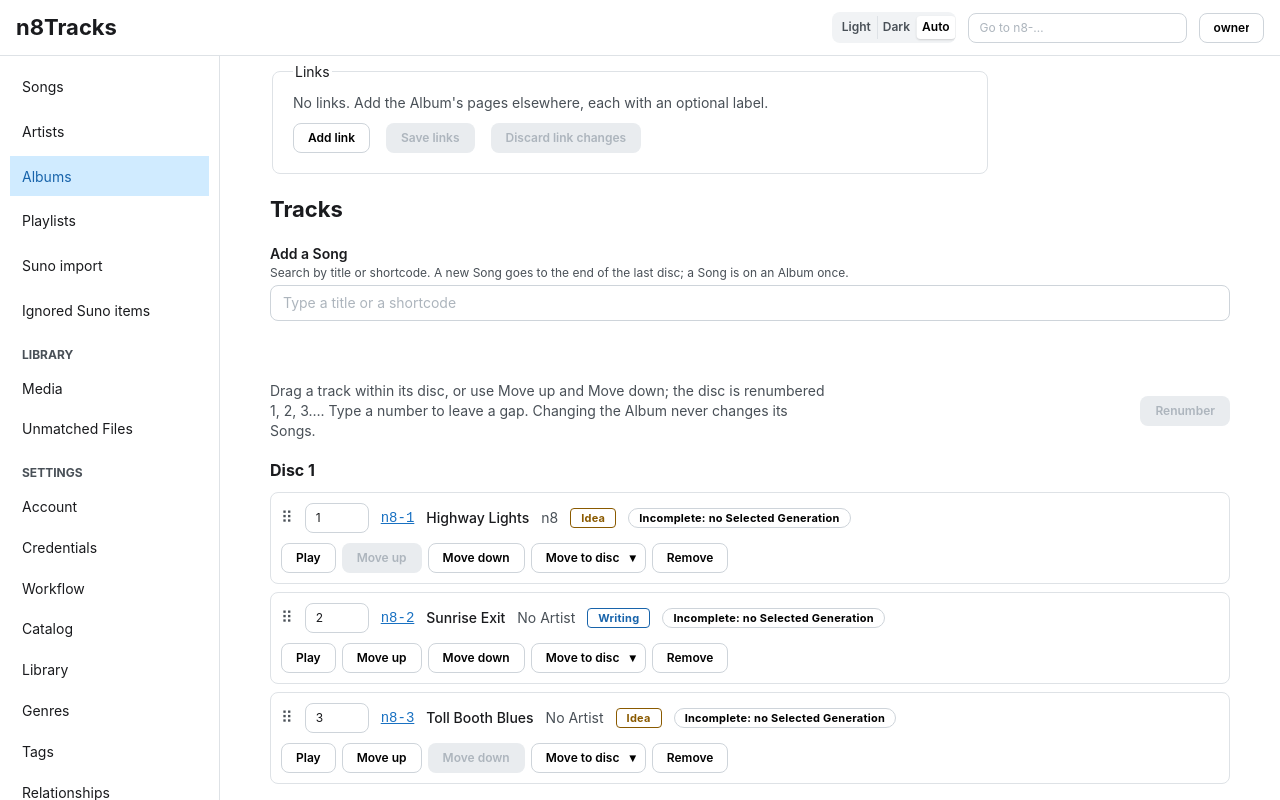
Test: an Album's tracks › moves a row when a number is typed, and Renumber closes the gap
(page scrolled)
Expected: the button "Renumber" is disabled, [1140,396,1230,426]
Replace the text in the field named "Track number of Highway Lights" with "9". click: {"x": 337, "y": 518}
box: [305,503,369,533]
Then press Enter
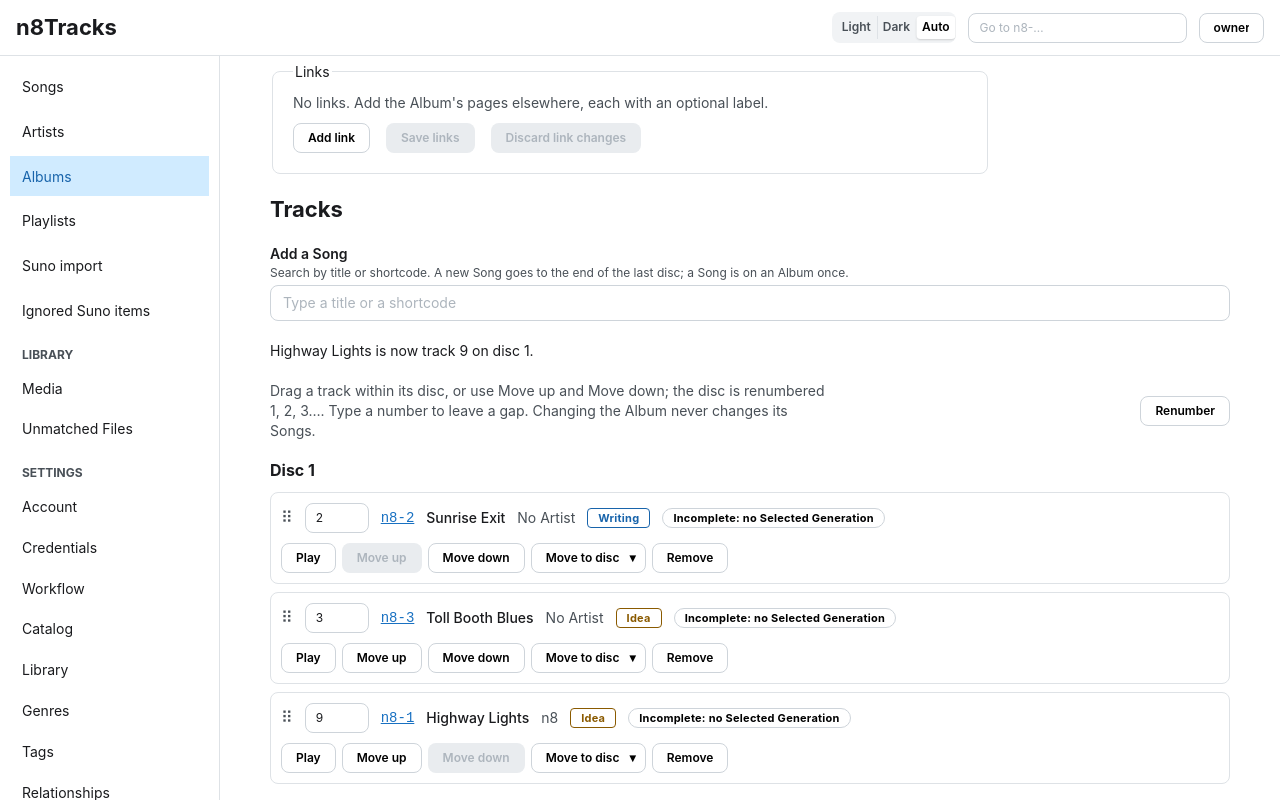
Click the button "Renumber". click: {"x": 1185, "y": 411}
box: [1140,396,1230,426]
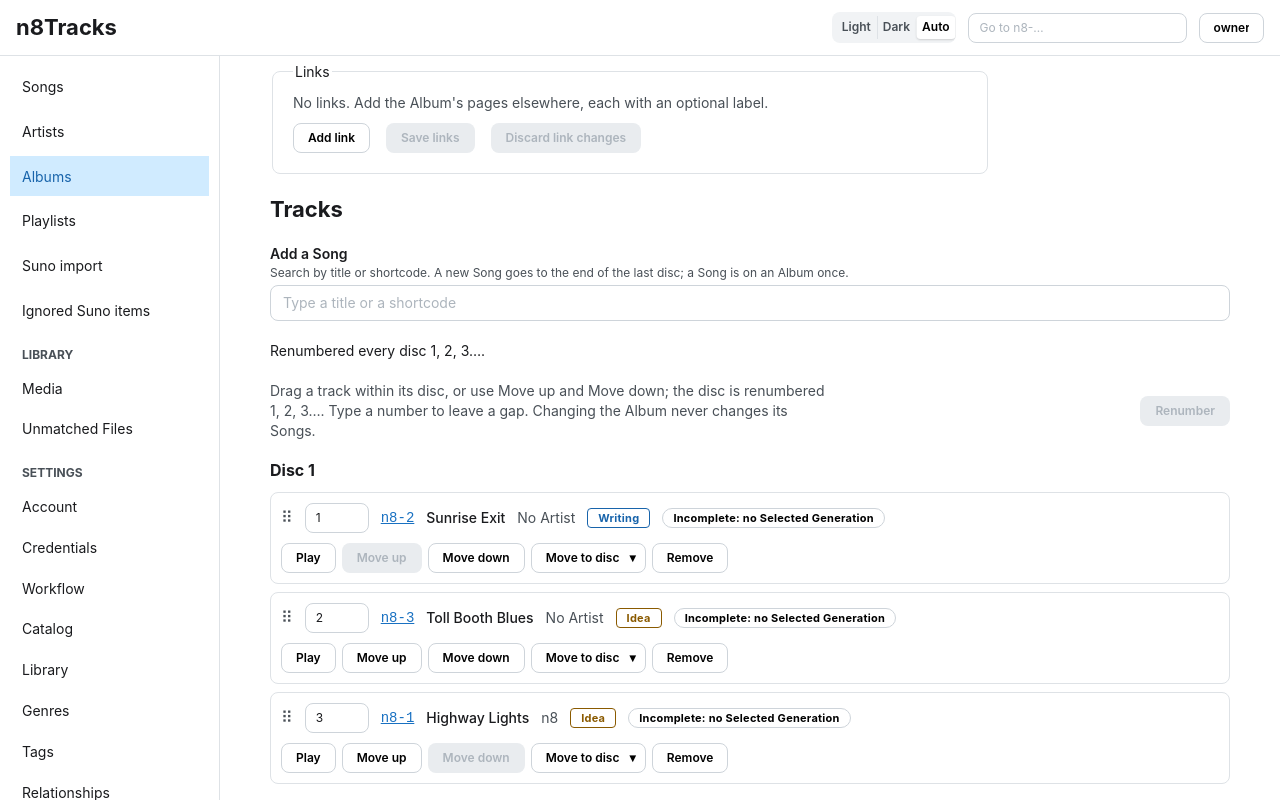
Now the message with test id "album-track-status" reads "Renumbered every disc 1, 2, 3….", box [270,342,485,359]
